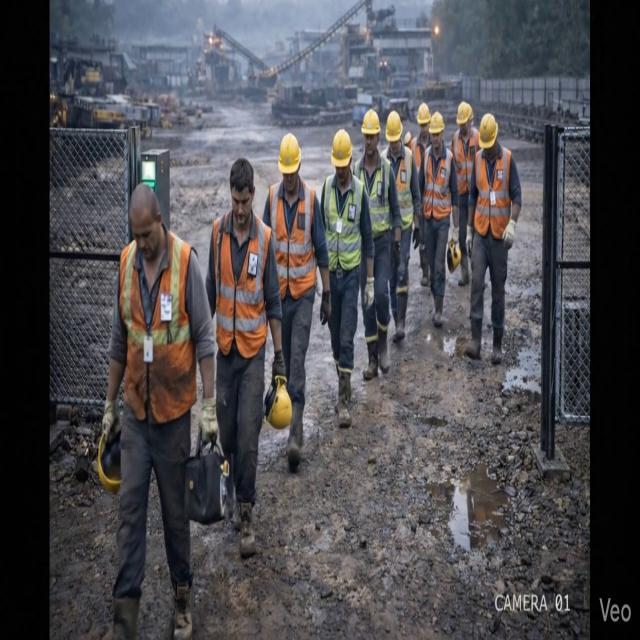Vest: (119, 232, 196, 423), (212, 213, 271, 358), (269, 179, 316, 299), (324, 175, 363, 271), (474, 147, 511, 239), (423, 146, 452, 220), (368, 154, 391, 238), (452, 128, 478, 195), (395, 145, 412, 231)
Worker: (102, 184, 217, 639), (206, 158, 285, 558), (263, 133, 330, 471), (321, 129, 374, 427), (465, 113, 521, 364), (353, 109, 401, 380), (419, 112, 458, 327), (384, 111, 420, 342), (452, 101, 478, 286), (411, 103, 430, 172)
helmet: (264, 376, 291, 429), (97, 432, 120, 494), (278, 133, 300, 174), (331, 129, 352, 167), (479, 113, 497, 149), (386, 111, 402, 142), (361, 109, 380, 135), (446, 240, 461, 272), (429, 112, 444, 134), (457, 102, 471, 125), (417, 103, 431, 124), (404, 131, 411, 146)
